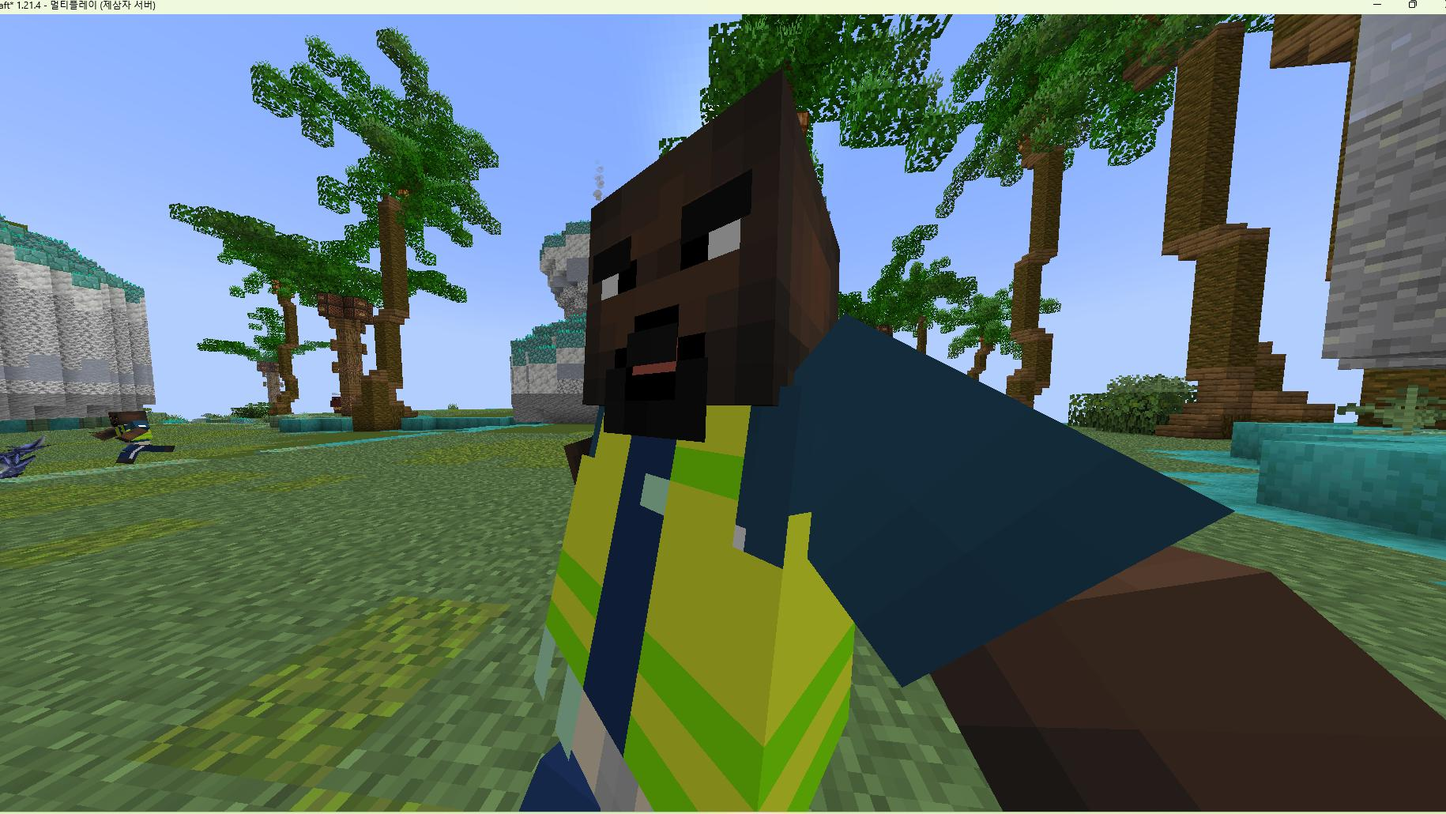Guardian: (523, 74, 1446, 810)
